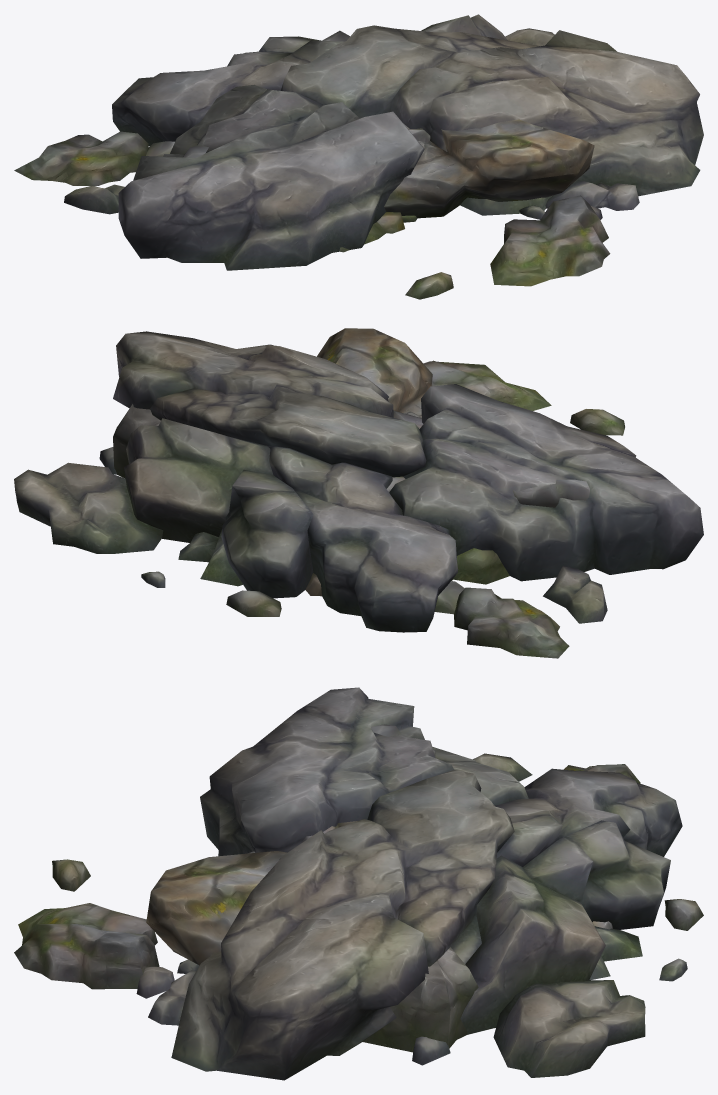
File: shitou.FBX
3 renders of one model, top to bottom at view 1: azimuth 30°, elevation 25°; view 2: azimuth 150°, elevation 25°; view 3: azimuth 270°, elevation 25°, orthographic. The views are drawn at different scales.
Parts seen in each view (by area): view 1: shitou_a, shitou_d, shitou_c; view 2: shitou_a, shitou_d, shitou_c; view 3: shitou_a, shitou_d, shitou_c.
Part boxes in pixels (box(x1,y1,x2,y2)): shitou_a: box(64, 14, 703, 270); shitou_d: box(14, 123, 610, 299); shitou_c: box(146, 119, 594, 233); shitou_a: box(14, 331, 703, 632); shitou_d: box(113, 360, 624, 658); shitou_c: box(317, 328, 464, 614); shitou_a: box(136, 687, 687, 1080); shitou_d: box(14, 724, 703, 1052); shitou_c: box(146, 851, 286, 965).
Bounding box in the file's own units: 3.5 × 0.6426 × 3.09.
